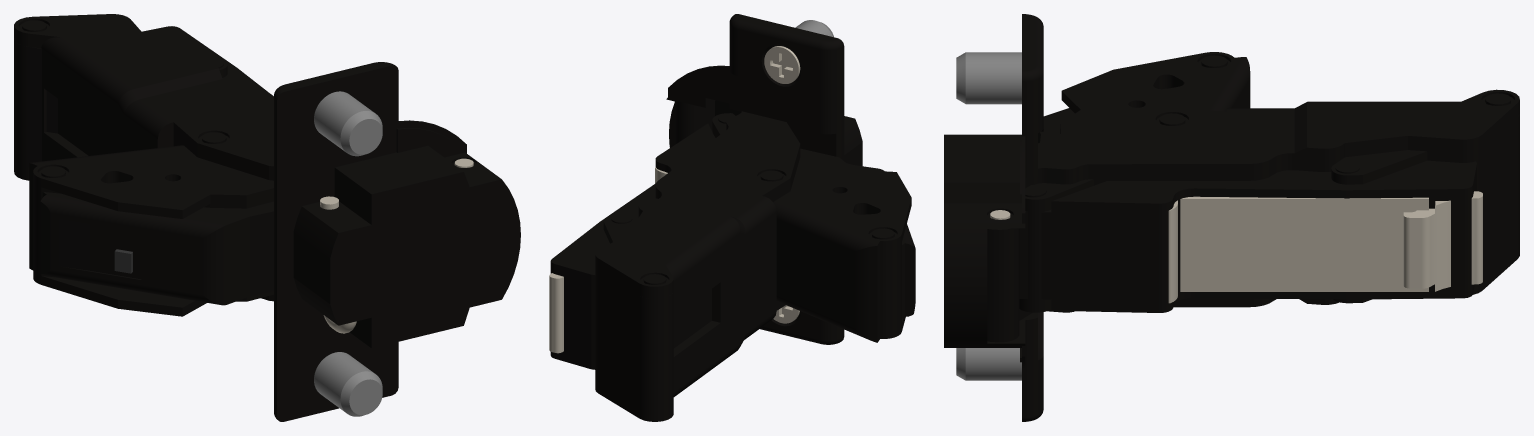
3 renders of one model, left to right at view 1: azimuth 30°, elevation 25°; view 2: azimuth 150°, elevation 25°; view 3: azimuth 270°, elevation 25°, orthographic. The views are drawn at different scales.
Visible parts, largest first — view 1: bau0079302490-1, bau0079291413-1, bau0079324562-1, bau0079298416-1, bau0082114196-1, bau0059100308-2, bau0059100308-1, bau0079262819-1; view 2: bau0079291413-1, bau0079298416-1, bau0079302490-1, bau0079262819-1, bau0082114196-1, bau0059100308-1, bau0079324562-1, bau0025540121-1, bau0059100308-2; view 3: bau0079291413-1, bau0079262819-1, bau0025540121-1, bau0079302490-1, bau0079298416-1, bau0059100308-1, bau0082114196-1, bau0059100308-2, bau0079324562-1.
Boxes of the visible parts, x1,y1,x2,y2 form: bau0079302490-1: (274, 62, 520, 421); bau0079291413-1: (14, 14, 273, 301); bau0079324562-1: (40, 192, 273, 305); bau0079298416-1: (29, 145, 273, 316); bau0082114196-1: (14, 38, 227, 167); bau0059100308-2: (314, 352, 382, 416); bau0059100308-1: (314, 91, 382, 156); bau0079262819-1: (142, 26, 266, 90); bau0079291413-1: (595, 100, 800, 421); bau0079298416-1: (712, 113, 911, 342); bau0079302490-1: (666, 14, 862, 344); bau0079262819-1: (550, 123, 715, 369); bau0082114196-1: (603, 213, 673, 409); bau0059100308-1: (764, 20, 833, 83); bau0079324562-1: (846, 163, 915, 318); bau0025540121-1: (549, 167, 667, 353); bau0059100308-2: (773, 305, 799, 323); bau0079291413-1: (987, 89, 1519, 342); bau0079262819-1: (1019, 160, 1476, 312); bau0025540121-1: (1168, 191, 1482, 303); bau0079302490-1: (944, 14, 1043, 421); bau0079298416-1: (1019, 52, 1250, 312); bau0059100308-1: (956, 52, 1021, 104); bau0082114196-1: (1331, 114, 1519, 303); bau0059100308-2: (956, 348, 1021, 380); bau0079324562-1: (1038, 88, 1166, 143).
Size of the model in its own units: 65.68 by 57 by 84.91.
